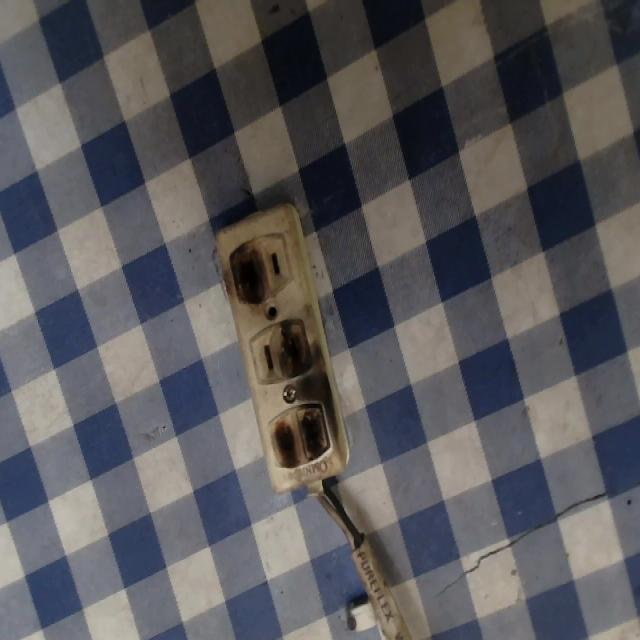-: (261, 402, 336, 467), (220, 233, 267, 315), (272, 320, 323, 377)
